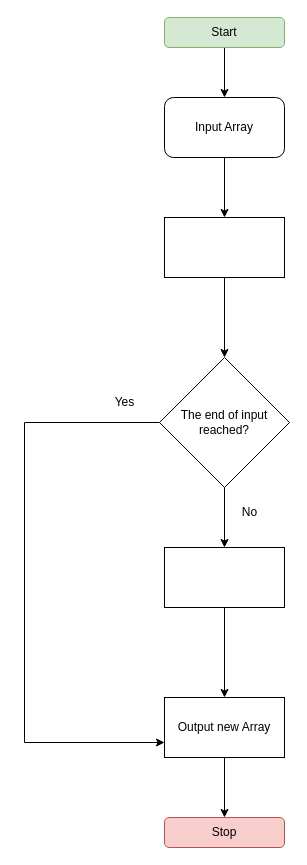
This 307x865 diagram has some shape labels left out. Each missing label, with the centre of its shape:
"filter Array new Array" belongs at pixel 224 577.
"Split" belongs at pixel 224 247.
